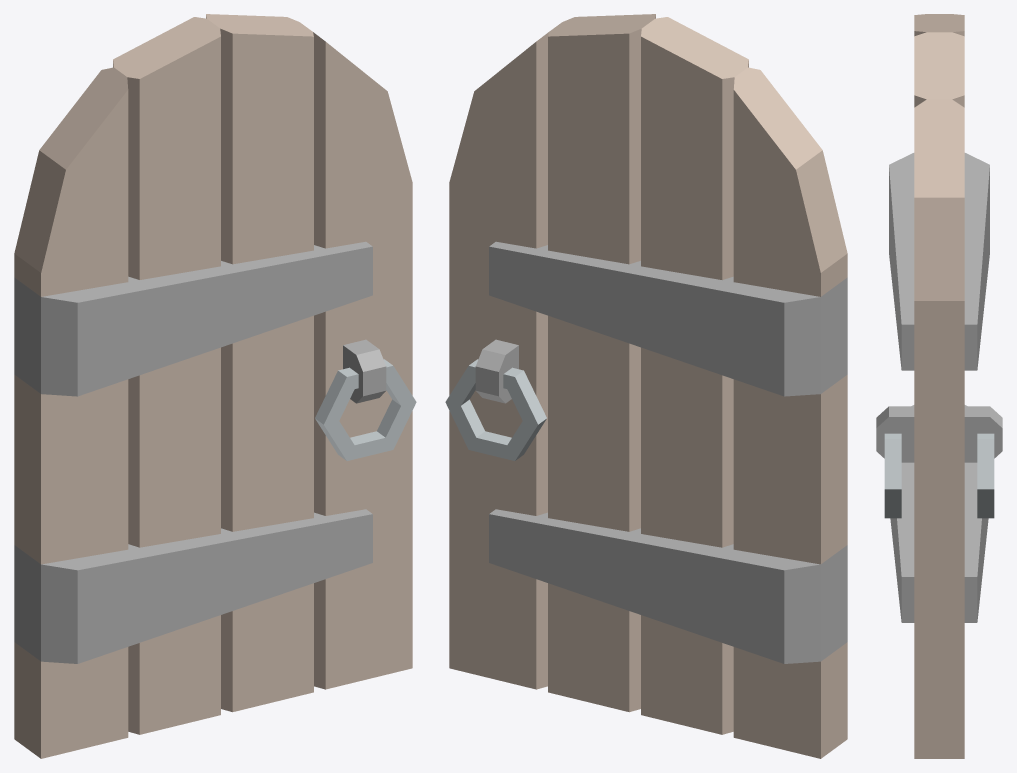
The model's file is prop_wall_big_door_wood.glb.
3 views of the same model, side by side, from view 1: azimuth 30°, elevation 25°; view 2: azimuth 150°, elevation 25°; view 3: azimuth 270°, elevation 25° (orthographic). The views are drawn at different scales.
Visible parts, largest first — view 1: prop_wall_big_door_wood; view 2: prop_wall_big_door_wood; view 3: prop_wall_big_door_wood.
Boxes of the visible parts, bbox=[...] form: prop_wall_big_door_wood: bbox=[14, 14, 416, 758]; prop_wall_big_door_wood: bbox=[445, 14, 847, 758]; prop_wall_big_door_wood: bbox=[876, 14, 1002, 758].
Bounding box in the file's own units: 0.8 × 1.4 × 0.25.
